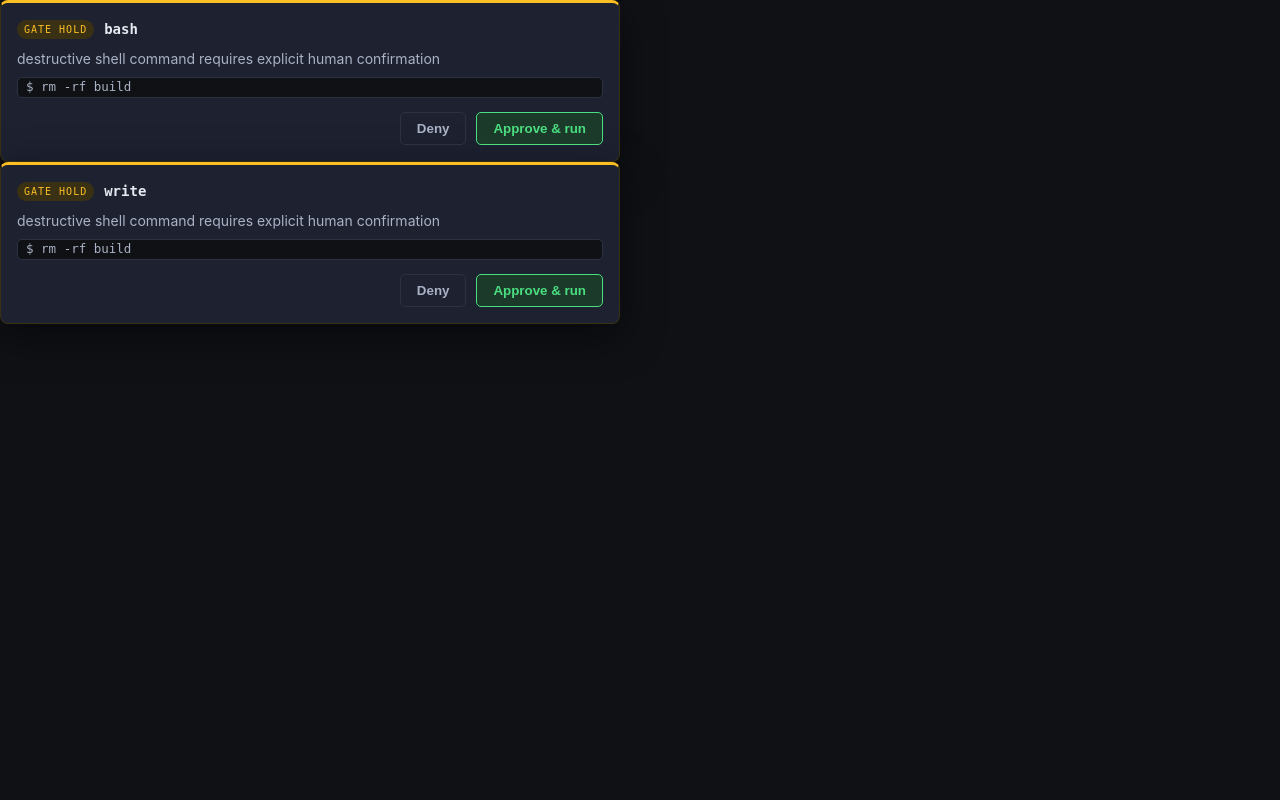
Test: GateConfirm wired to the bridge (T3 full flow) › queues multiple holds and denies them in order
This screenshot has width=1280, height=800.
Expected: the text with class "gate-confirm__tool" reads "write", top-left (104, 183), bottom-right (146, 199)
Click the button with class "gate-confirm__deny" below "write" at coordinates (433, 290), box top-left (400, 274), bottom-right (466, 306)
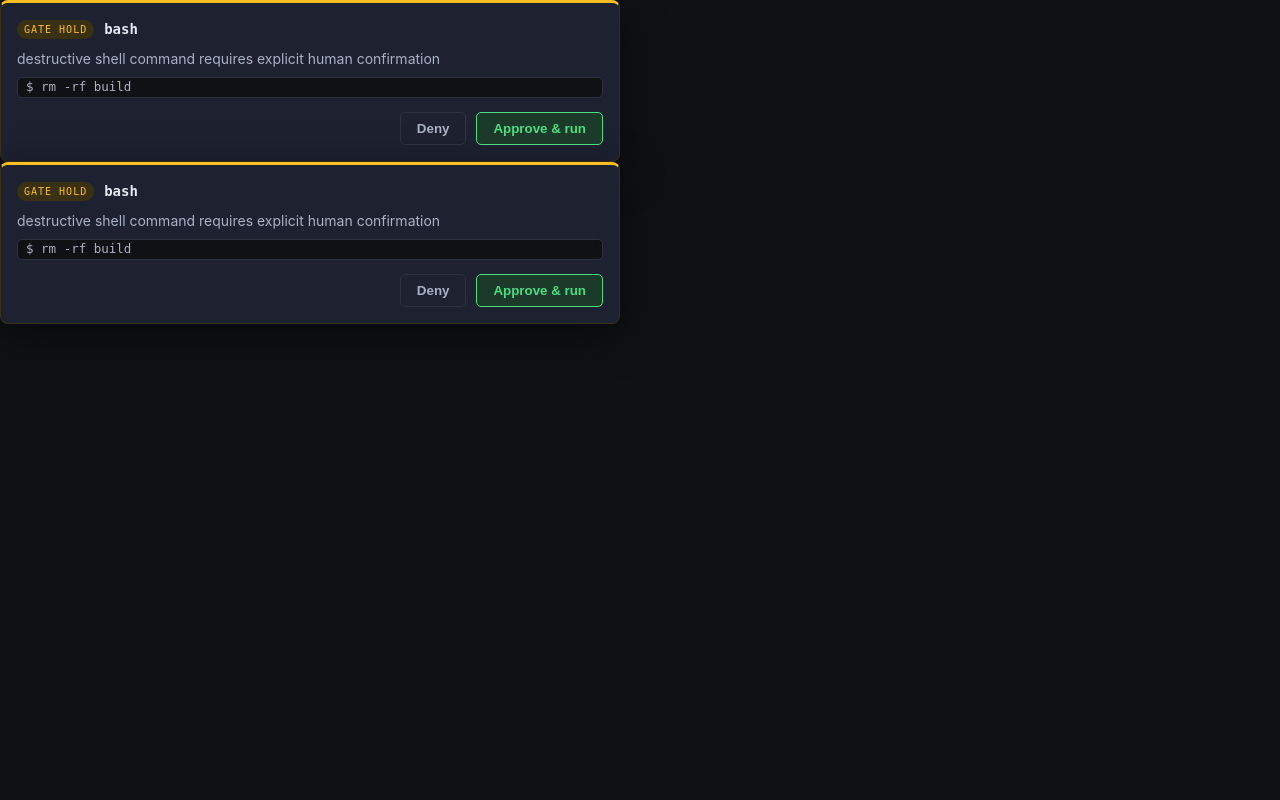
Now the 2nd text with class "gate-confirm__tool" reads "bash", box top-left (104, 183), bottom-right (138, 199)
